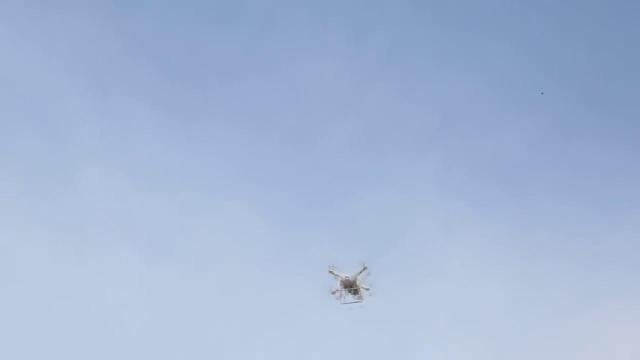drone: (313, 252, 387, 316)
